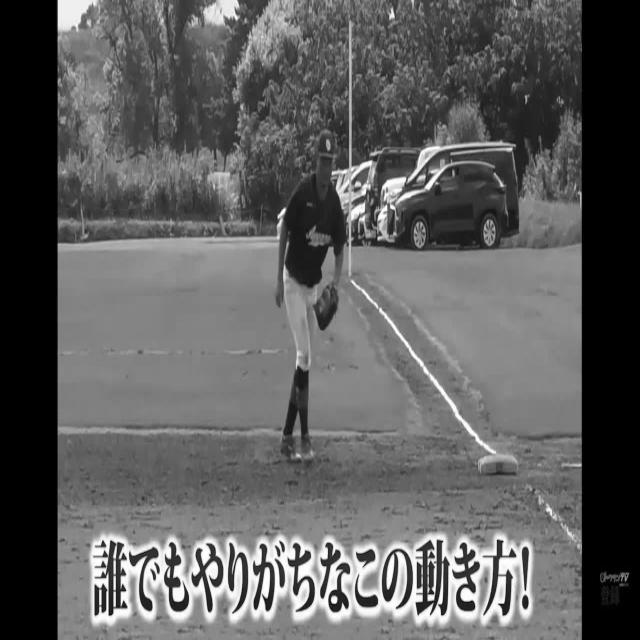base: (476, 455, 522, 474)
baseball_glove: (314, 280, 340, 334)
shoe: (280, 430, 302, 470), (301, 430, 323, 468)
